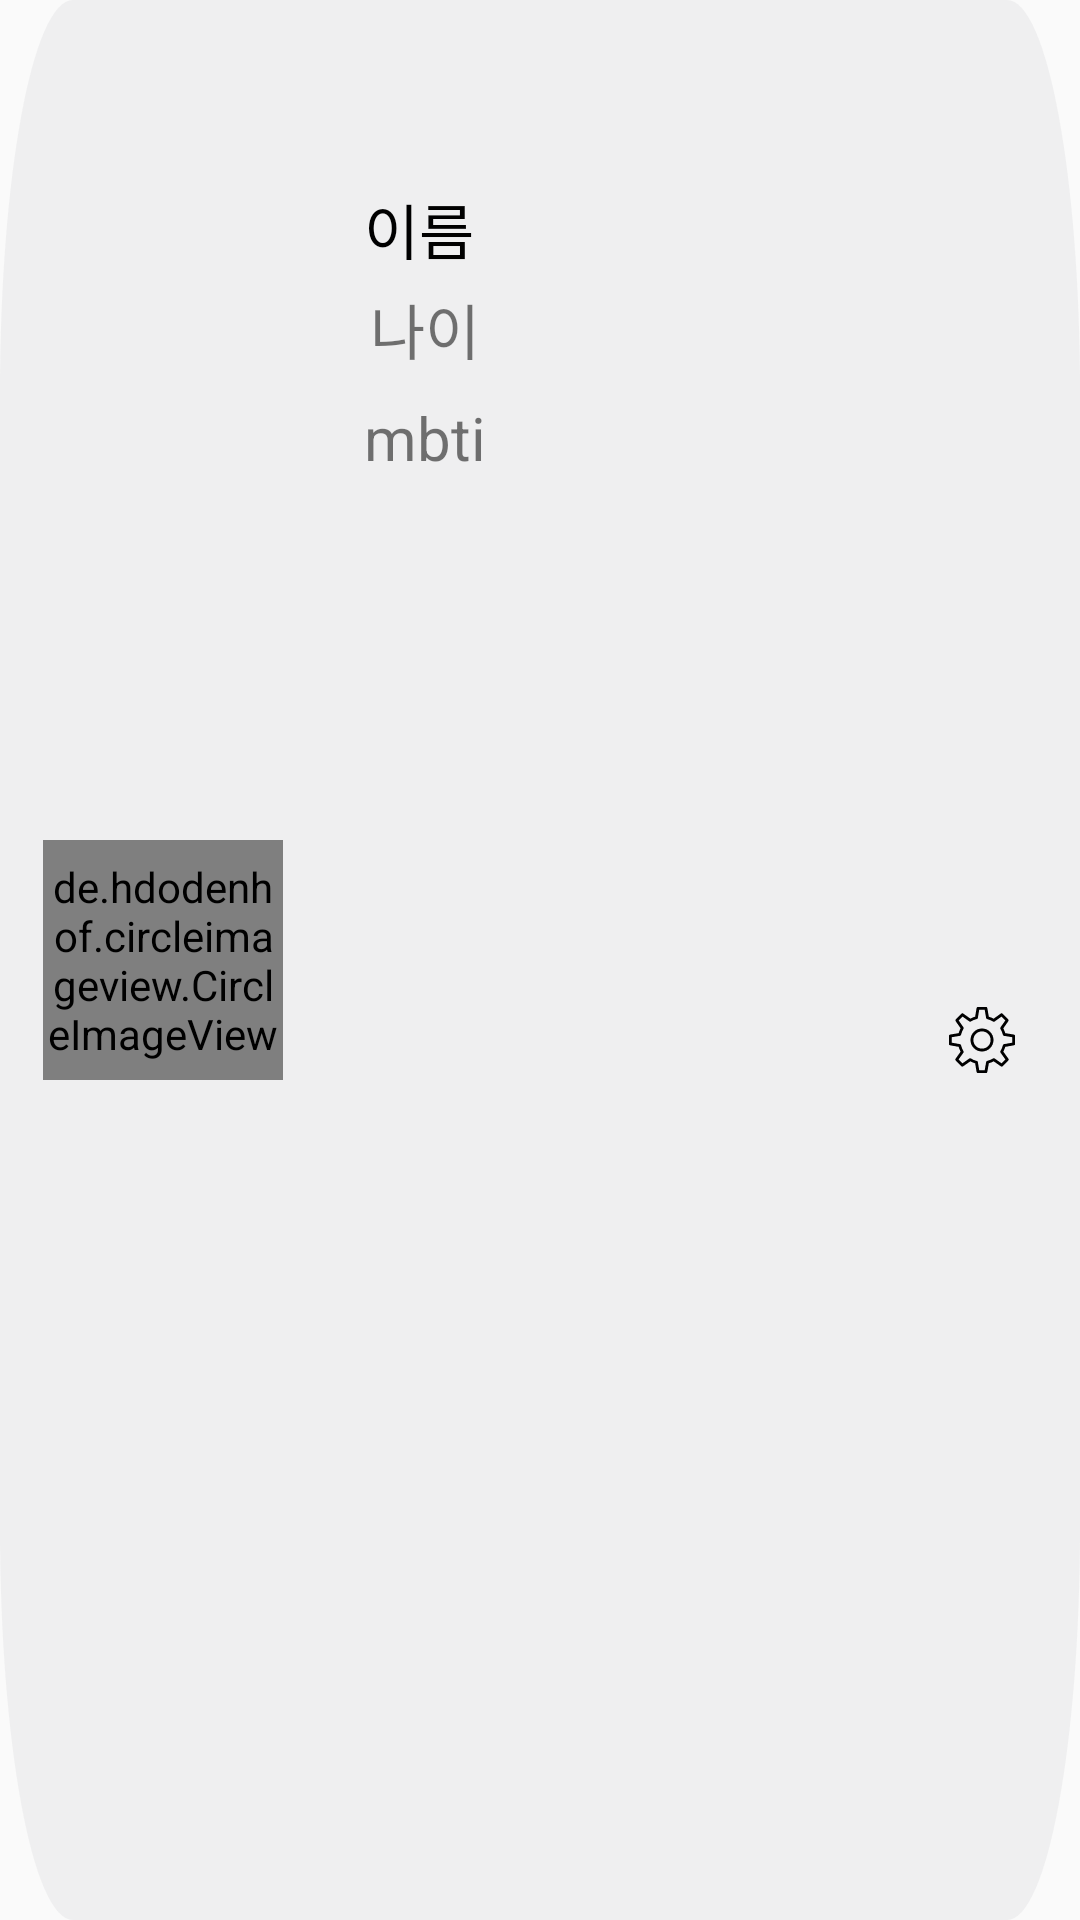

Icon click points for this 1080px x 1920px phone screenshot, format (x=x, y=y):
setting: (x=982, y=1040)
